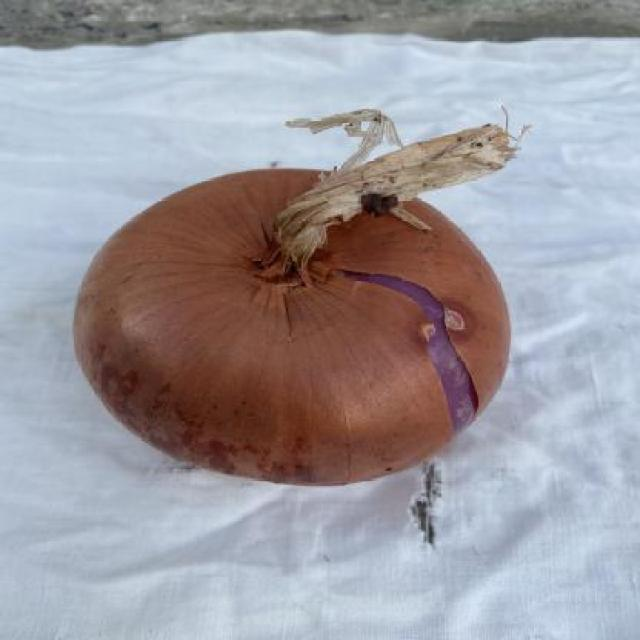Onion: (74, 109, 518, 485)
